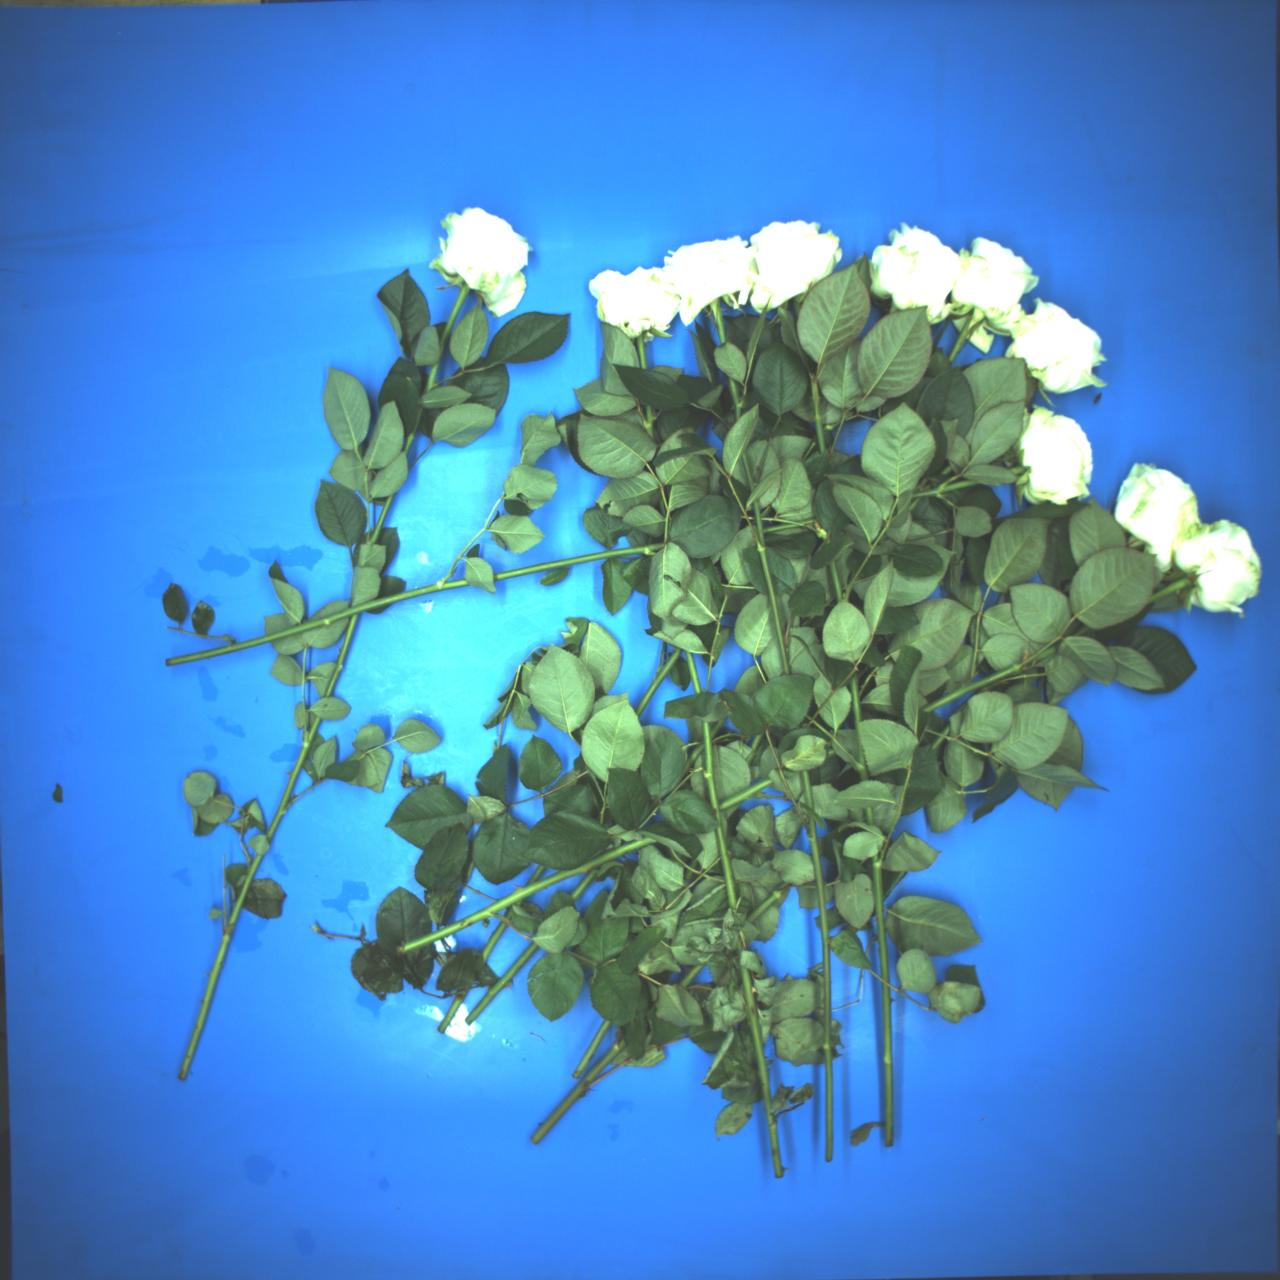Stem: (399, 829, 658, 956), (164, 574, 470, 672), (860, 855, 905, 1148), (806, 816, 843, 1163), (530, 1035, 629, 1148), (736, 966, 787, 1179), (176, 919, 237, 1081), (748, 499, 792, 676), (264, 715, 321, 843), (493, 542, 665, 581), (463, 940, 540, 1028), (919, 660, 1024, 715), (631, 645, 683, 717), (324, 610, 360, 701), (434, 284, 471, 358), (227, 852, 263, 927), (571, 1017, 612, 1081), (846, 673, 870, 782), (697, 721, 721, 825), (712, 824, 740, 911), (744, 878, 792, 926), (715, 776, 775, 811), (910, 475, 979, 502), (436, 987, 469, 1035), (367, 492, 395, 546), (809, 373, 826, 454), (946, 316, 975, 363), (720, 375, 748, 423), (1145, 576, 1194, 602), (478, 920, 509, 962), (676, 738, 708, 777), (402, 407, 425, 456), (568, 866, 600, 903), (736, 451, 760, 493), (421, 361, 443, 400), (676, 960, 704, 988), (685, 649, 702, 694), (744, 729, 765, 765), (828, 560, 845, 604), (931, 723, 954, 750), (713, 302, 728, 343), (801, 769, 815, 812), (706, 713, 728, 738), (1028, 646, 1057, 665), (525, 864, 546, 890), (763, 520, 802, 533), (635, 335, 648, 370), (645, 406, 655, 441), (1069, 622, 1090, 640), (682, 859, 697, 881), (788, 299, 803, 320), (907, 497, 921, 512), (760, 504, 774, 519), (797, 516, 817, 526), (865, 805, 874, 828), (658, 498, 667, 519), (940, 465, 953, 478), (1010, 464, 1024, 476), (504, 910, 515, 921), (516, 899, 526, 907)
flower: (414, 192, 552, 325), (994, 291, 1125, 415), (721, 198, 853, 318), (1092, 450, 1217, 573), (647, 215, 767, 326), (857, 215, 972, 326), (935, 227, 1050, 338), (1167, 512, 1275, 629), (586, 256, 685, 345), (1015, 403, 1095, 506)
